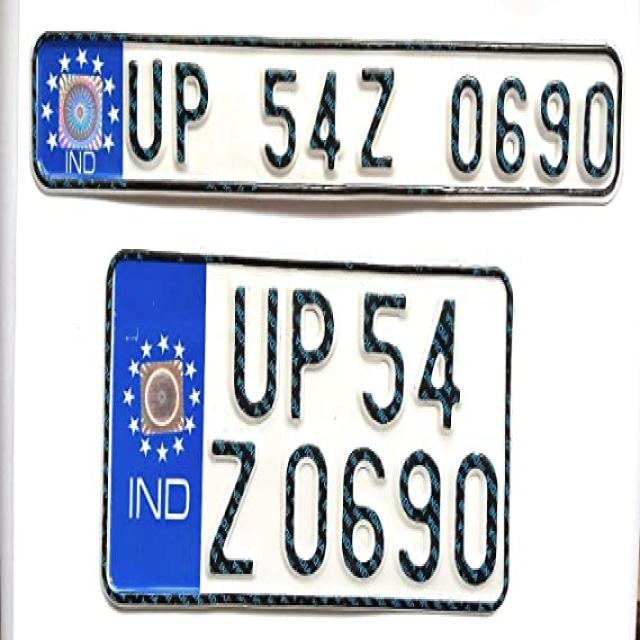plate: (102, 240, 514, 618), (32, 22, 626, 217)
